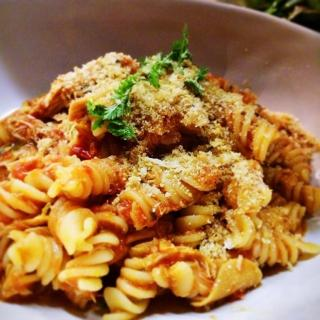Pasta: (0, 20, 317, 312)
